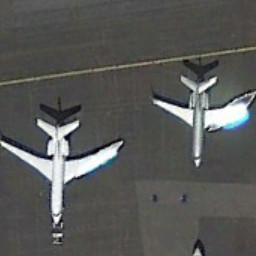Airplane: (1, 103, 130, 236), (144, 69, 256, 175)
